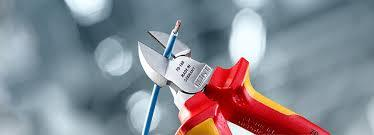pliers: (135, 29, 329, 134)
